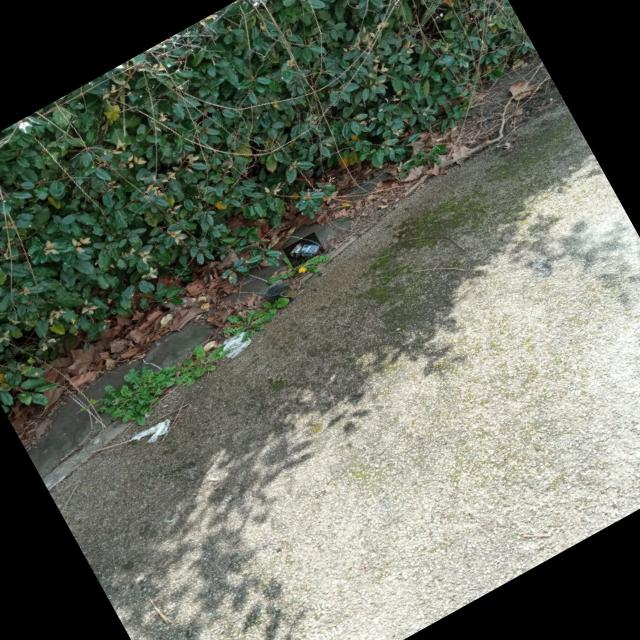Other container: (284, 232, 326, 268)
